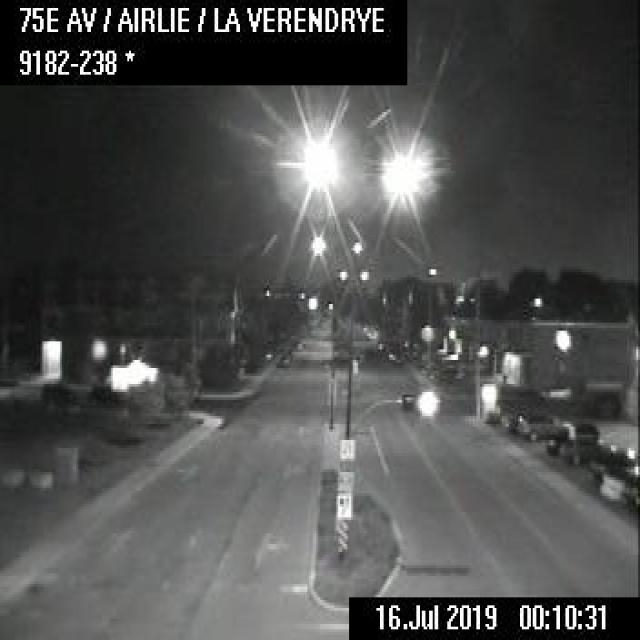vehicle: (598, 464, 638, 501), (557, 435, 603, 464), (590, 444, 636, 473), (515, 412, 562, 439), (274, 352, 290, 366)
